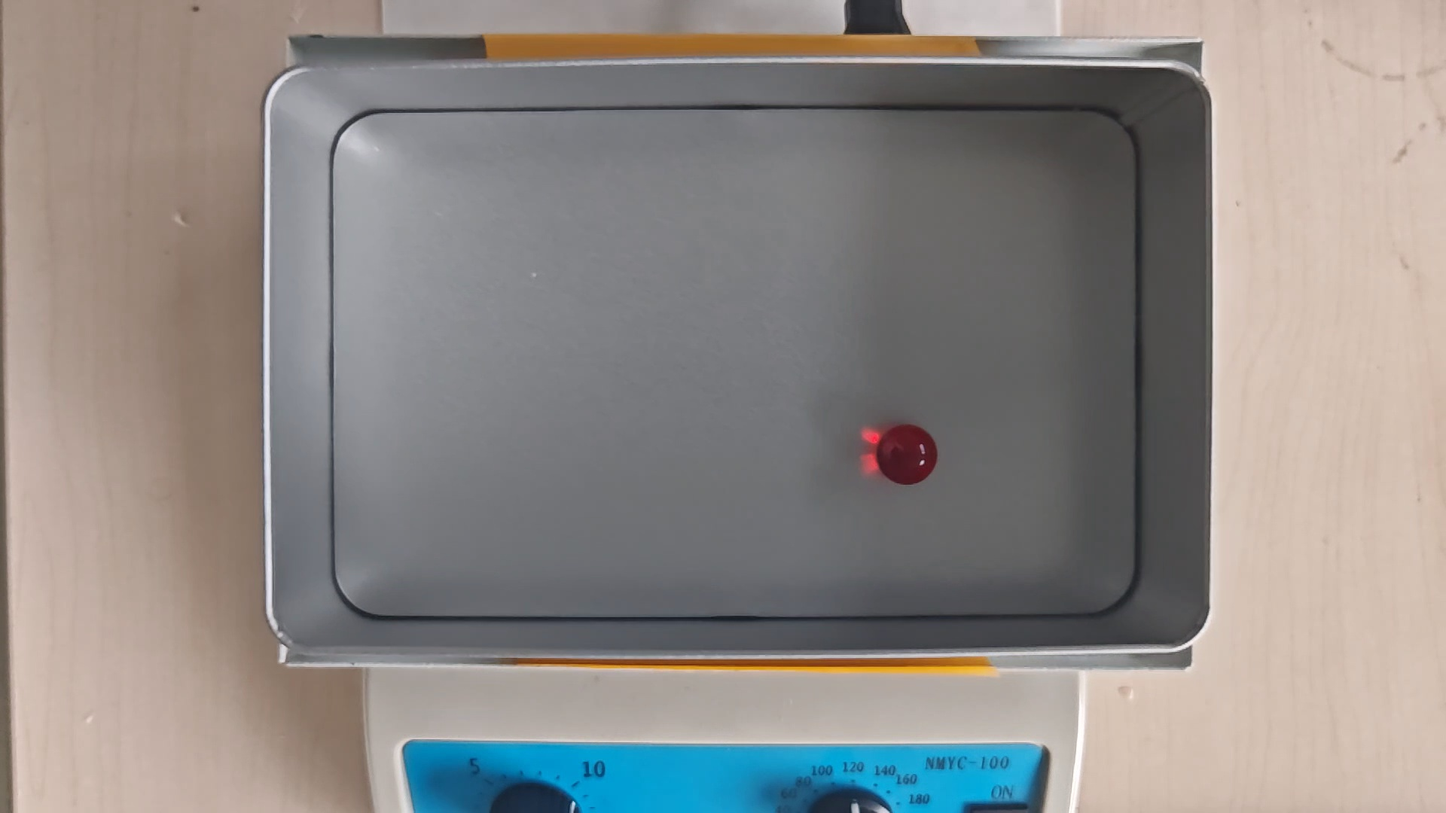ball: (876, 425, 936, 484)
container: (331, 109, 1139, 619)
